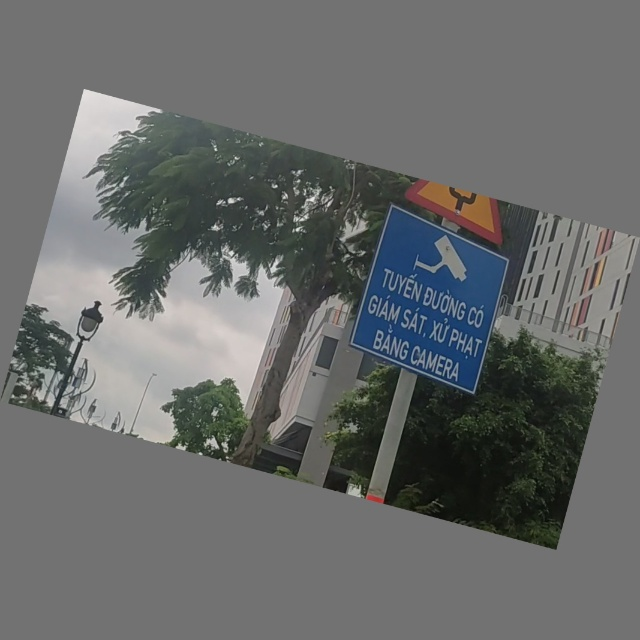Camera: (347, 208, 516, 394)
W.246a: (396, 177, 515, 246)
